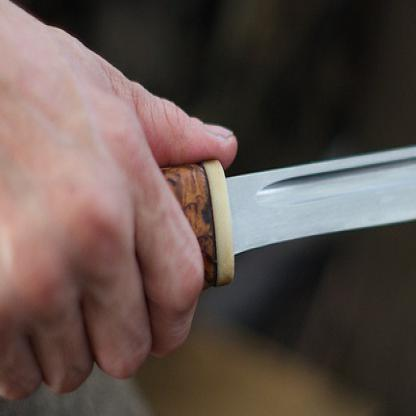knife: (42, 74, 415, 402)
